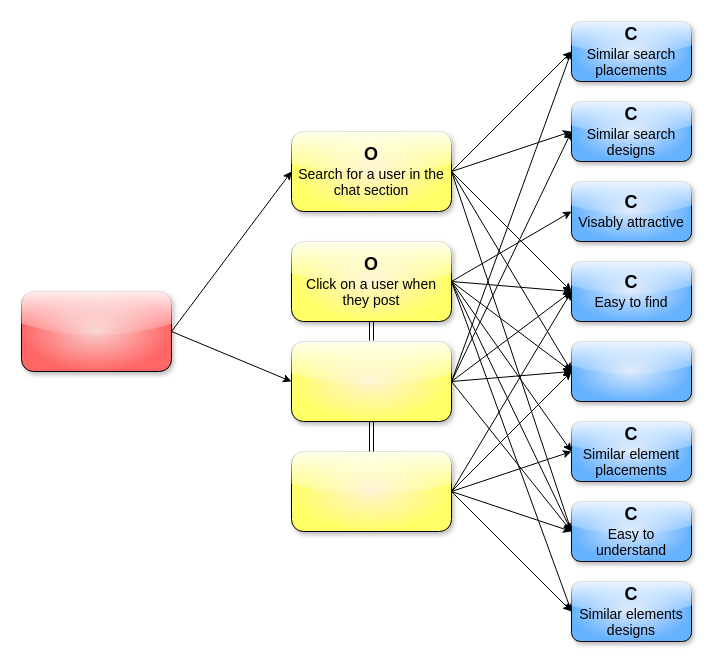
Some shapes in this 715 by 666 pixel diagram are drawn without their labels. The centre of each missing label's shape, as x and y in pixels:
"C Easy to use" belongs at point 632,372.
"O Click on a user when they comment" belongs at point 372,492.
"O Filter for a user in the form section" belongs at point 372,382.
"Q How to DM a specific user ?" belongs at point 97,332.
